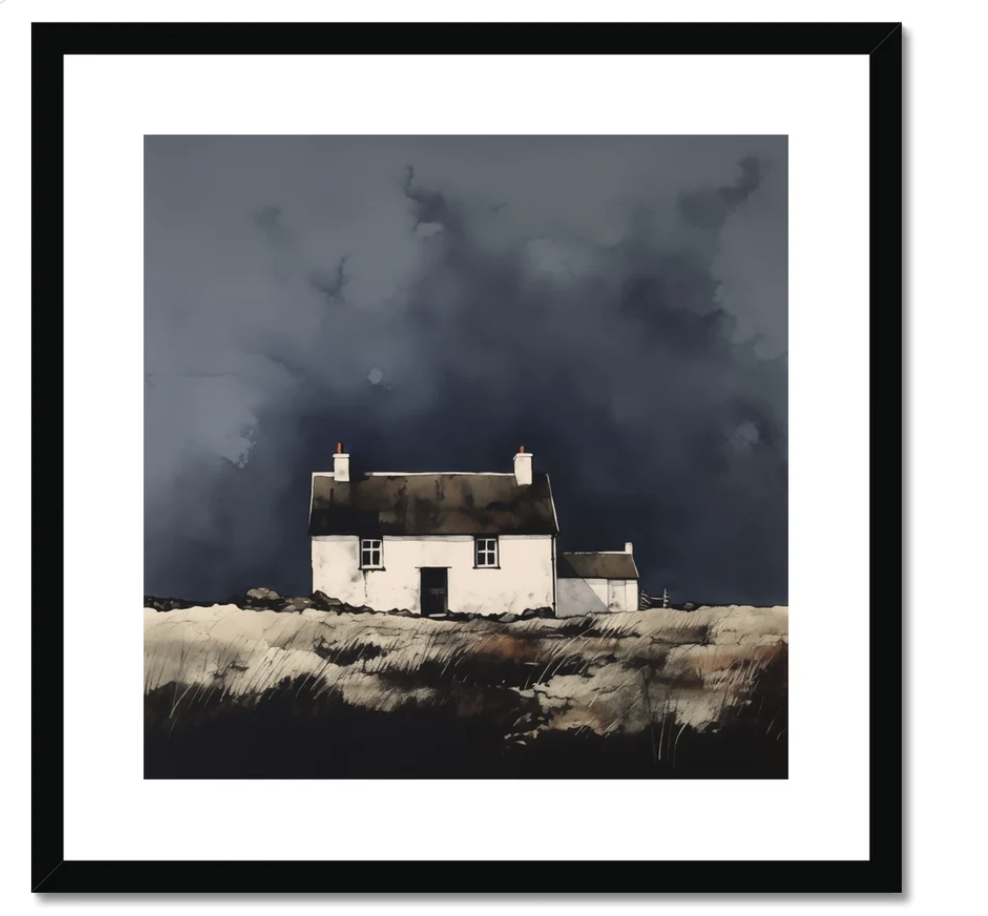painting: (30, 22, 907, 894)
